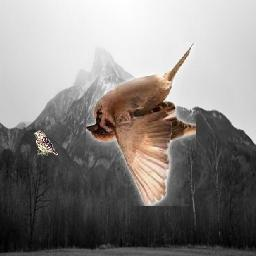Sparrow: (86, 42, 196, 206), (34, 130, 59, 156)
